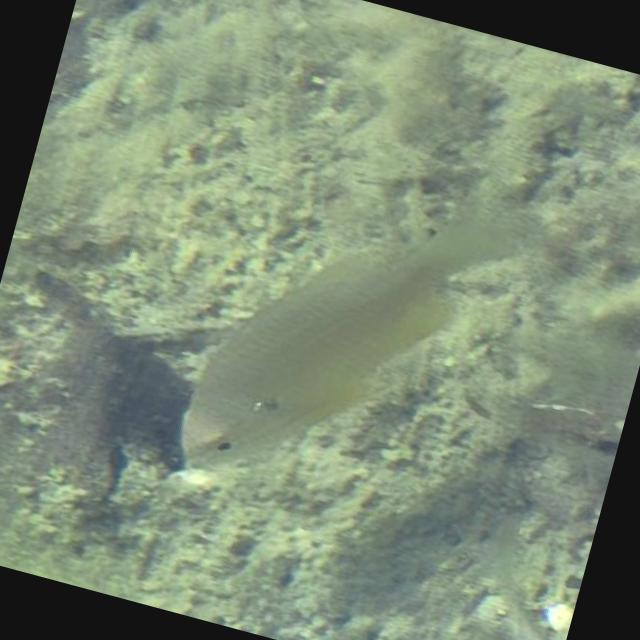Gunes Levregi: (153, 156, 532, 545)
